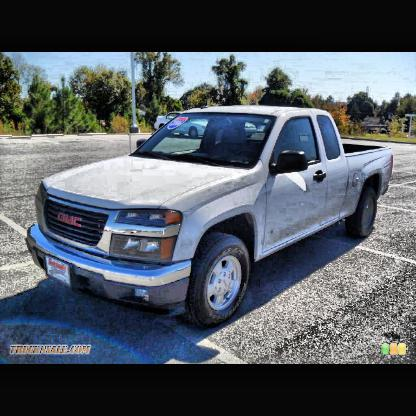GMC Canyon Extended Cab 2012: (25, 106, 396, 327)
